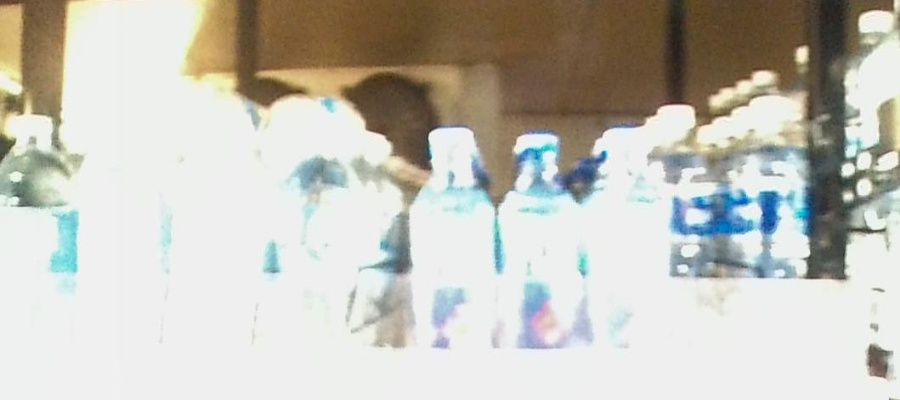bottle: (407, 129, 499, 361), (586, 127, 663, 369), (505, 133, 581, 365)
